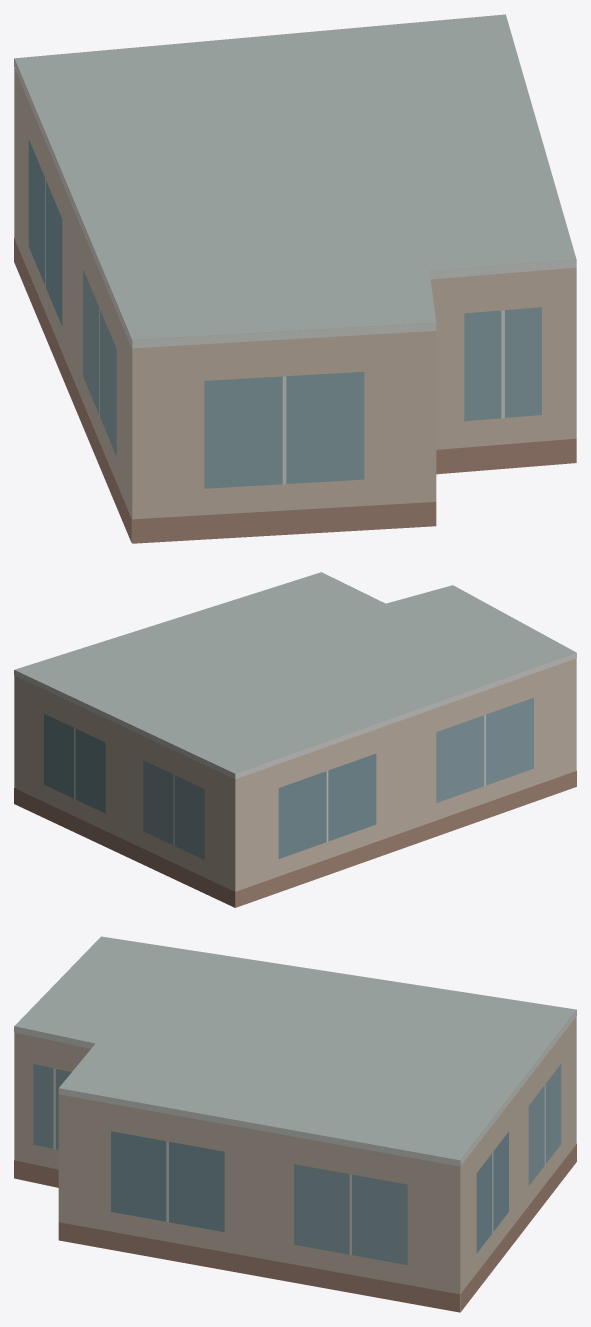
The model's file is survey-upis-32755568.glb.
The picture shows the model from 3 angles, top to bottom: view 1: azimuth 30°, elevation 25°; view 2: azimuth 150°, elevation 25°; view 3: azimuth 270°, elevation 25°; orthographic projection. The views are drawn at different scales.
Visible parts, largest first — view 1: survey-upis-32755568.tmp; view 2: survey-upis-32755568.tmp; view 3: survey-upis-32755568.tmp.
Part boxes in pixels (x1=…): survey-upis-32755568.tmp: x1=14, y1=14, x2=576, y2=543; survey-upis-32755568.tmp: x1=14, y1=572, x2=576, y2=907; survey-upis-32755568.tmp: x1=14, y1=936, x2=576, y2=1312.
Size of the model in its own units: 9.64 by 3.05 by 10.23.
